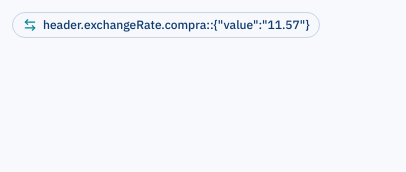
Scenario: ExchangeRateIndicator › shows the stale status key when estado is stale
Click the button "header.exchangeRate.compra::{\"value\":\"11.57\"}" at [166, 25], box [12,12,320,38]
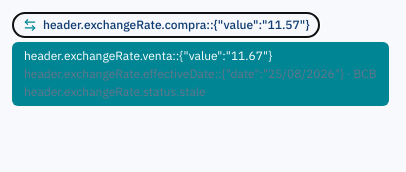
Now the text "header.exchangeRate.status.stale" is shown, box [24,84,206,99]
